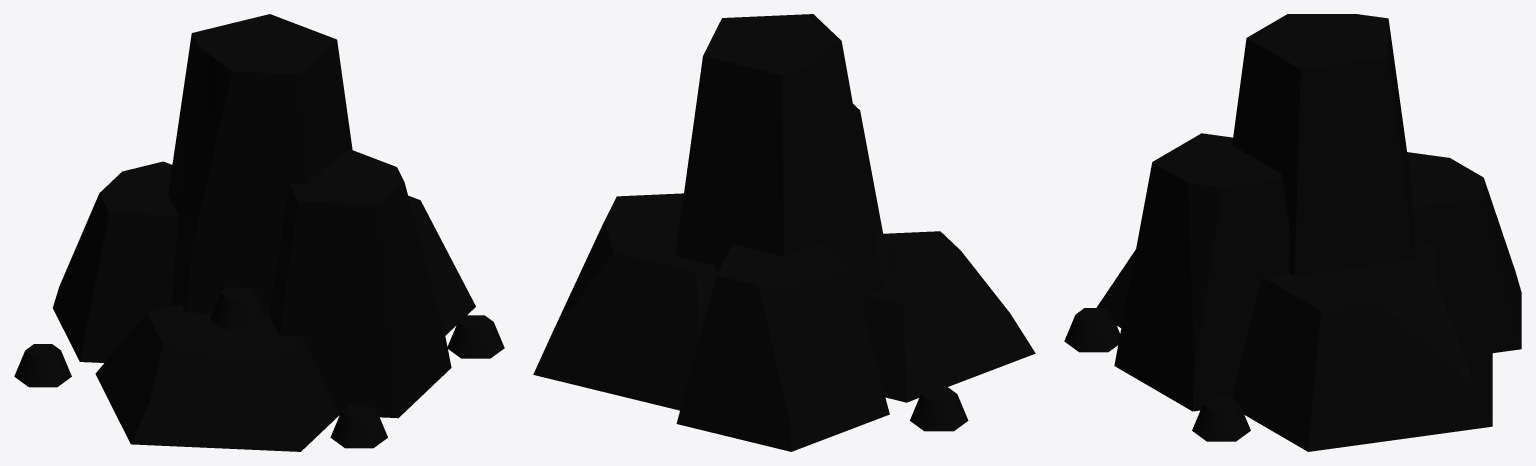
The model's file is rock-large.glb.
The picture shows the model from 3 angles, left to right: view 1: azimuth 30°, elevation 25°; view 2: azimuth 150°, elevation 25°; view 3: azimuth 270°, elevation 25°; orthographic projection. The views are drawn at different scales.
Visible parts, largest first — view 1: rock-large; view 2: rock-large; view 3: rock-large.
Boxes of the visible parts, left/top/right/bottom form: rock-large: left=14, top=14, right=504, bottom=451; rock-large: left=533, top=14, right=1035, bottom=451; rock-large: left=1064, top=14, right=1521, bottom=451.
Size of the model in its own units: 1.67 by 1.16 by 1.55.
Materials: 1 (1 with a texture image).
